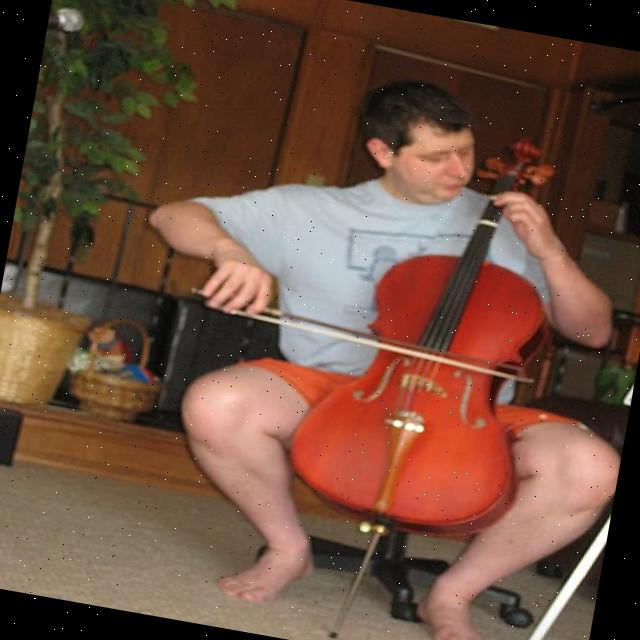cello: (274, 108, 583, 550)
